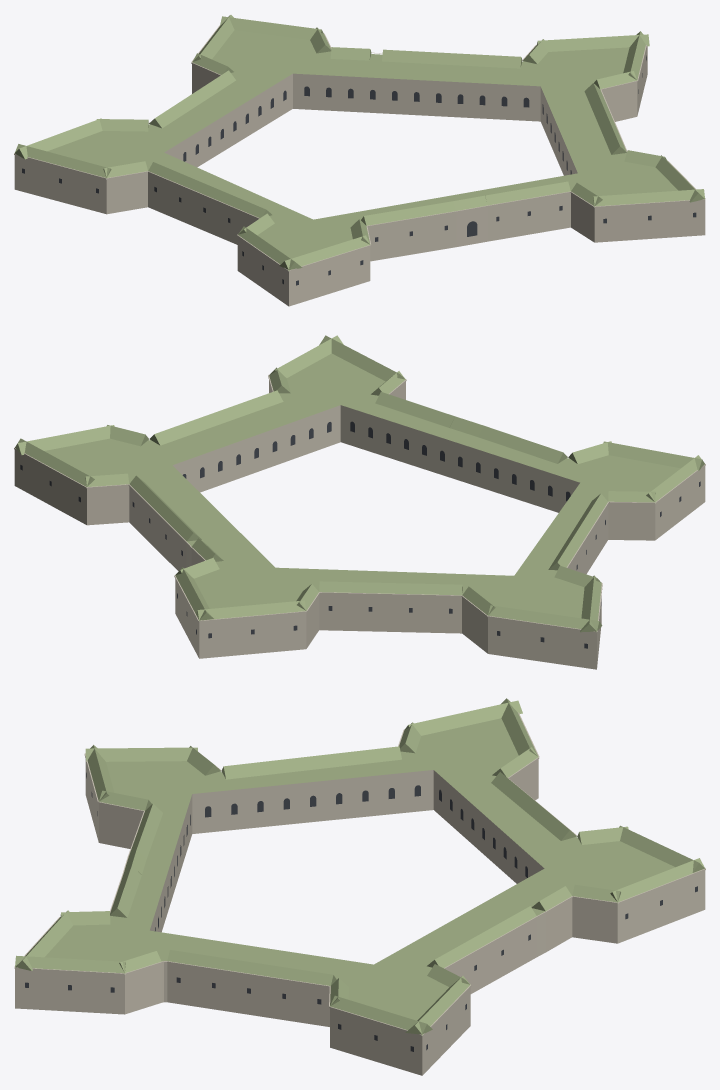
The model's file is bos-fort-independence.glb.
3 views of the same model, one above another, from view 1: azimuth 30°, elevation 25°; view 2: azimuth 150°, elevation 25°; view 3: azimuth 270°, elevation 25° (orthographic). The views are drawn at different scales.
Visible parts, largest first — view 1: Fort Independence; view 2: Fort Independence; view 3: Fort Independence.
Part boxes in pixels (<box>): Fort Independence: <box>14,15,705,306</box>; Fort Independence: <box>14,335,705,669</box>; Fort Independence: <box>14,698,705,1075</box>.
Bounding box in the file's own units: 192 × 13.4 × 170.
